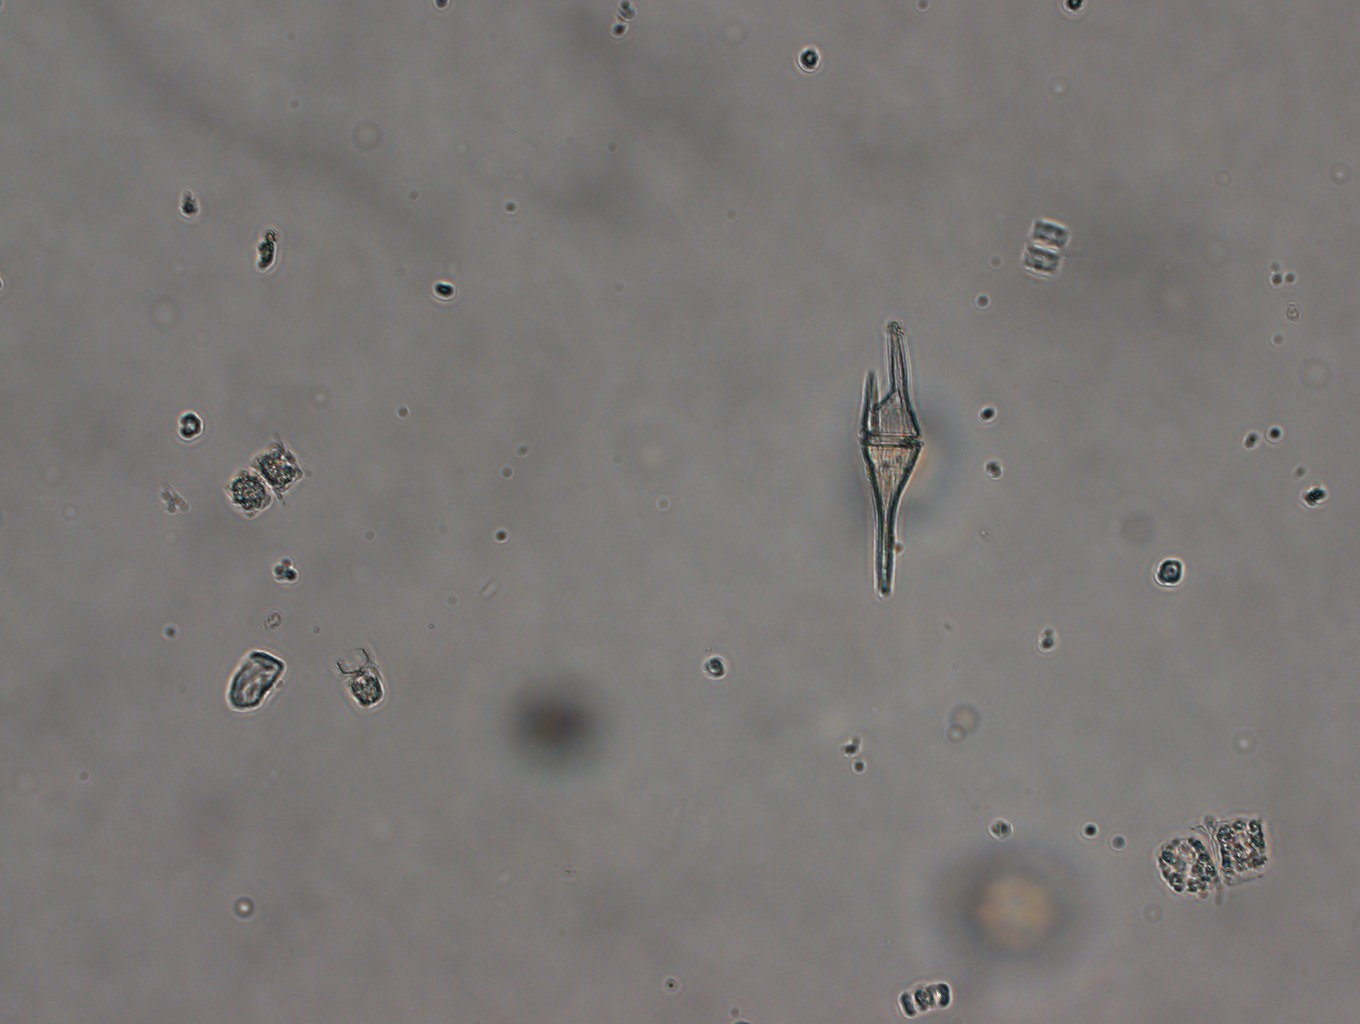thalassionema nitzschioides: (843, 315, 927, 602)
